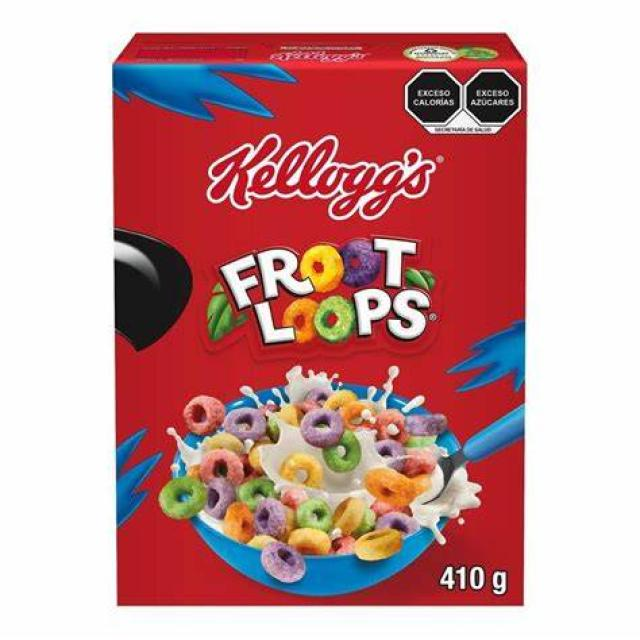Caja: (108, 6, 530, 608)
